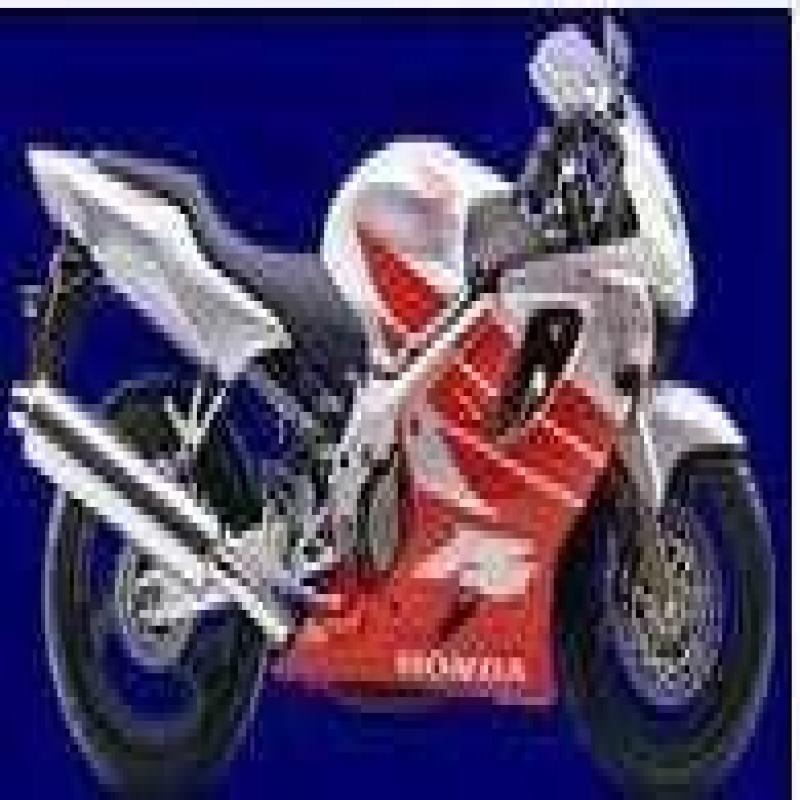bike: (0, 24, 788, 792)
